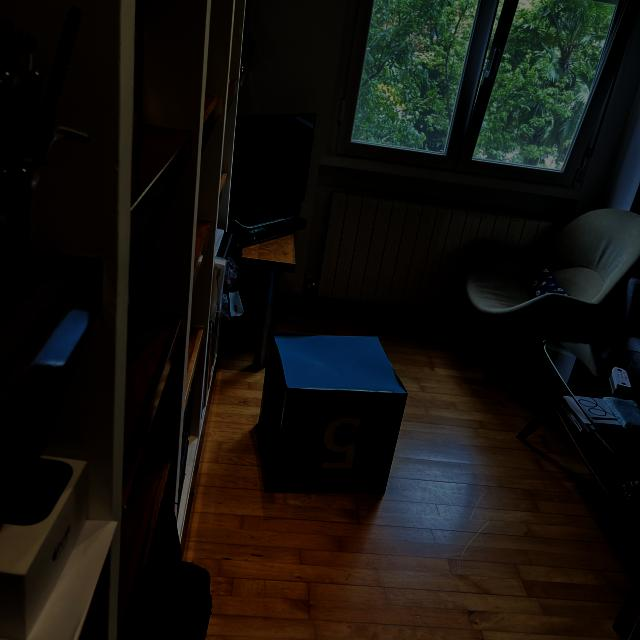box: (254, 326, 410, 495)
